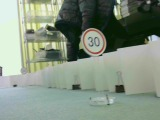speed_30: (78, 26, 108, 58)
